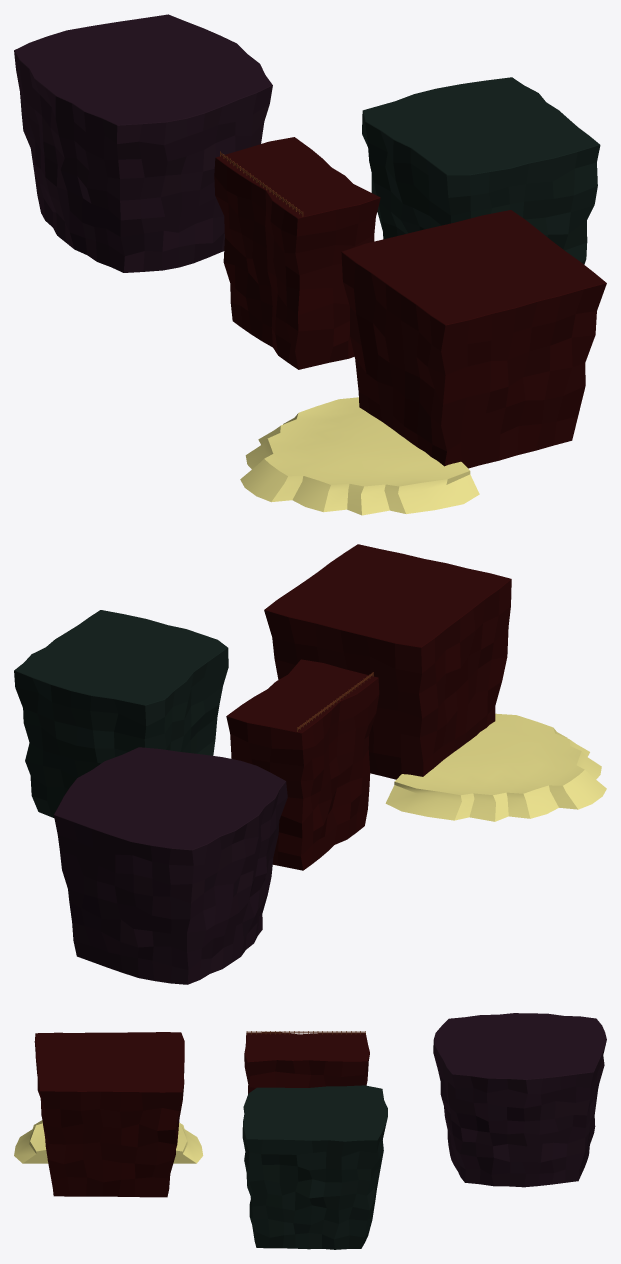
Rendered from Main Map_Shared_Areas.fbx.
3 renders of one model, top to bottom at view 1: azimuth 30°, elevation 25°; view 2: azimuth 150°, elevation 25°; view 3: azimuth 270°, elevation 25°, orthographic. The views are drawn at different scales.
Visible parts, largest first — view 1: Library Cliff, Garden Cliff, Cathedral Cliff, Plaza Cliff, Beach; view 2: Garden Cliff, Library Cliff, Cathedral Cliff, Plaza Cliff, Beach; view 3: Garden Cliff, Library Cliff, Cathedral Cliff, Plaza Cliff, Beach, Plaze Fence.
Part boxes in pixels (x1,y1,x2,y2): Library Cliff: [341, 210, 606, 468]; Garden Cliff: [14, 14, 272, 272]; Cathedral Cliff: [362, 77, 600, 264]; Plaza Cliff: [214, 137, 380, 369]; Beach: [240, 397, 479, 515]; Garden Cliff: [54, 747, 287, 984]; Library Cliff: [264, 544, 511, 779]; Cathedral Cliff: [14, 610, 228, 817]; Plaza Cliff: [226, 659, 379, 870]; Beach: [385, 713, 606, 821]; Garden Cliff: [433, 1013, 606, 1187]; Library Cliff: [34, 1032, 184, 1197]; Cathedral Cliff: [242, 1085, 387, 1249]; Plaza Cliff: [244, 1032, 369, 1093]; Beach: [14, 1120, 203, 1163]; Plaze Fence: [246, 1031, 365, 1034].
Size of what is drawn, in the model's own units: 11959 by 4388 by 18863.
